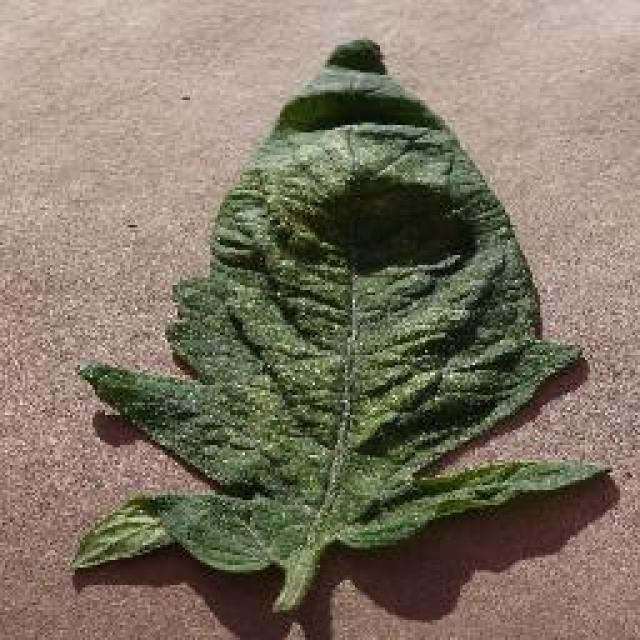Tomato mosaic virus leaf: (74, 41, 616, 596)
